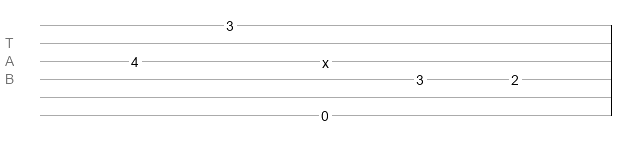0: (321, 108, 329, 118)
2: (511, 72, 519, 82)
3: (226, 18, 234, 28), (416, 72, 424, 82)
4: (131, 54, 139, 64)
x: (322, 55, 329, 63)
